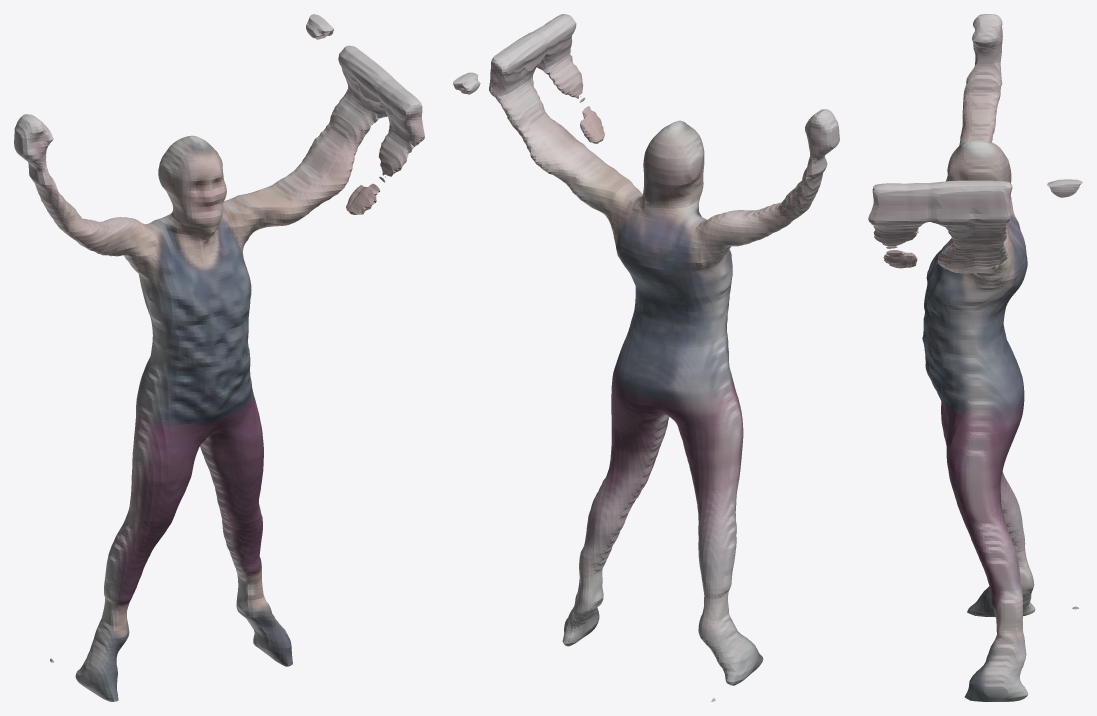
The model's file is 0128_tex.glb.
3 views of the same model, side by side, from view 1: azimuth 30°, elevation 25°; view 2: azimuth 150°, elevation 25°; view 3: azimuth 270°, elevation 25° (orthographic). The views are drawn at different scales.
Parts seen in each view (by area): view 1: 0128_tex.obj; view 2: 0128_tex.obj; view 3: 0128_tex.obj.
Part boxes in pixels (x1,y1,x2,y2): 0128_tex.obj: (14, 14, 424, 701); 0128_tex.obj: (453, 14, 839, 701); 0128_tex.obj: (868, 14, 1082, 701).
Bounding box in the file's own units: 0.546 × 0.9017 × 0.3064.
